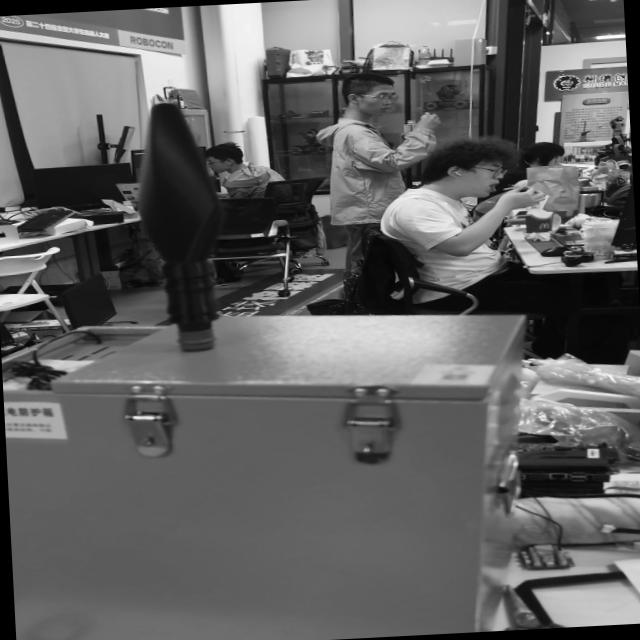base: (176, 326, 217, 354)
